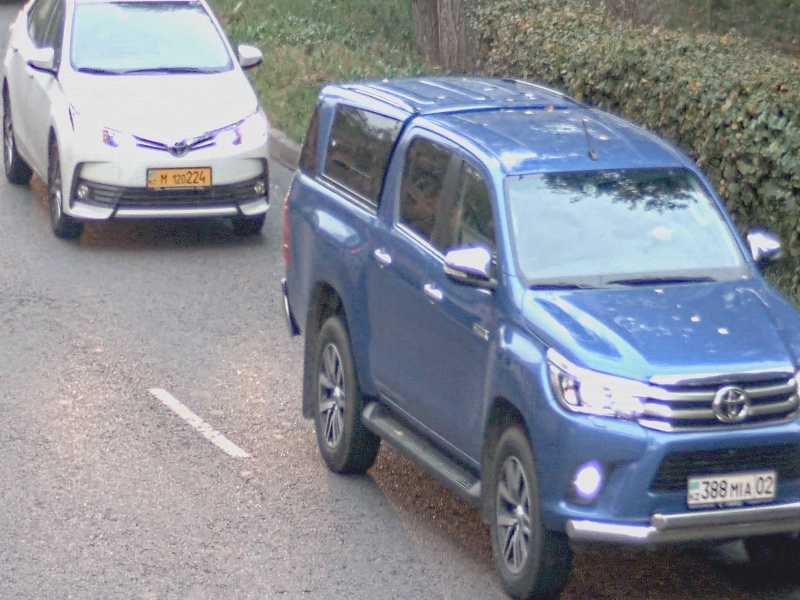plate: (685, 470, 777, 508)
y plate: (145, 165, 212, 191)
